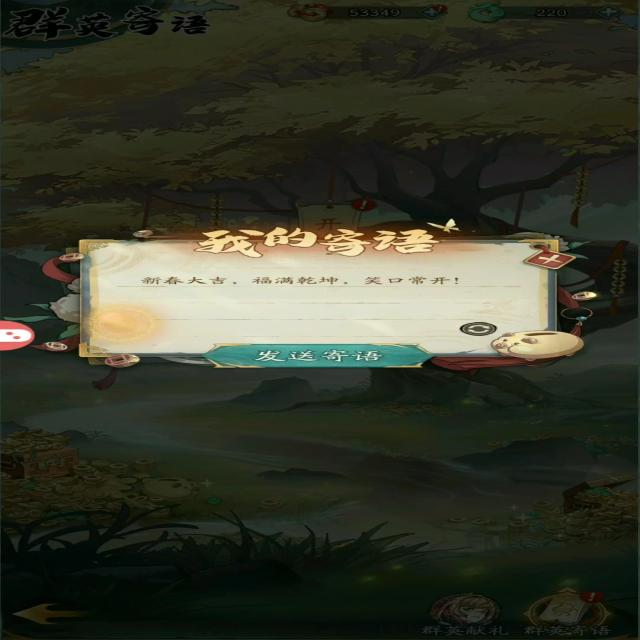operation-close: (512, 251, 590, 271)
operation-enter: (207, 343, 419, 375)
operation-randomName: (454, 320, 508, 343)
